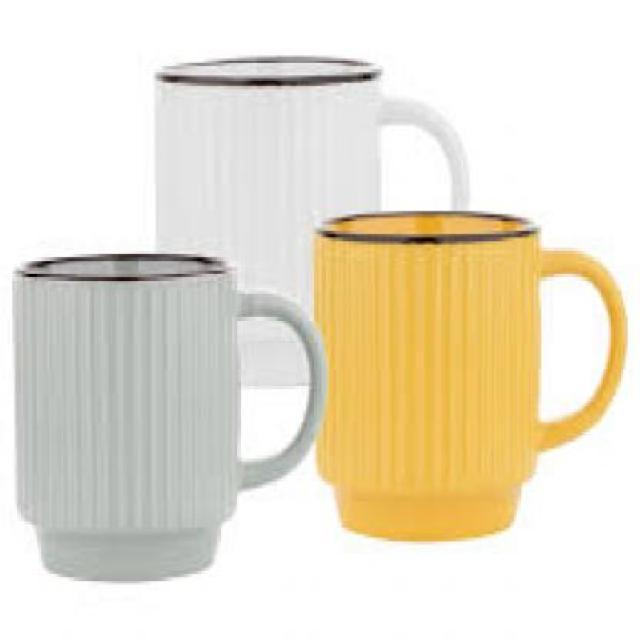cup: (149, 49, 483, 405), (309, 208, 635, 544), (11, 251, 332, 587)
